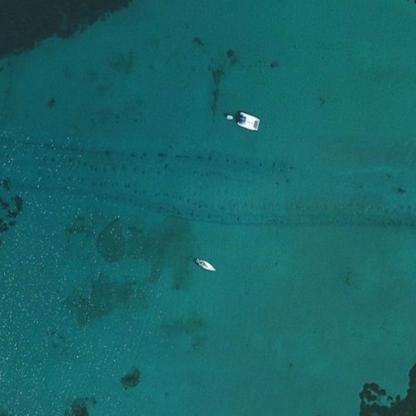ship: (219, 98, 264, 135), (186, 246, 220, 278)
